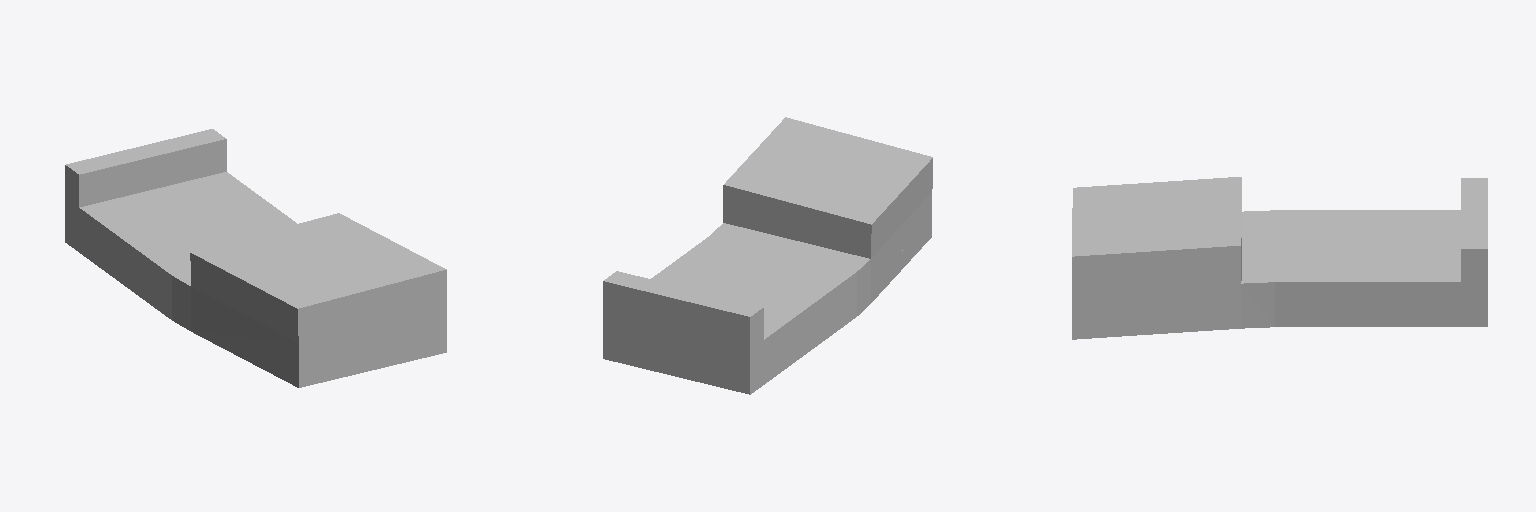
Rendered from floor (1).obj.
3 views of the same model, side by side, from view 1: azimuth 30°, elevation 25°; view 2: azimuth 150°, elevation 25°; view 3: azimuth 270°, elevation 25° (orthographic).
Parts seen in each view (by area): view 1: floor (1); view 2: floor (1); view 3: floor (1).
Part boxes in pixels (x1,y1,x2,y2): floor (1): (65, 129, 446, 387); floor (1): (603, 117, 932, 394); floor (1): (1072, 177, 1487, 339).
Size of the model in its own units: 20.38 by 9.35 by 42.47.